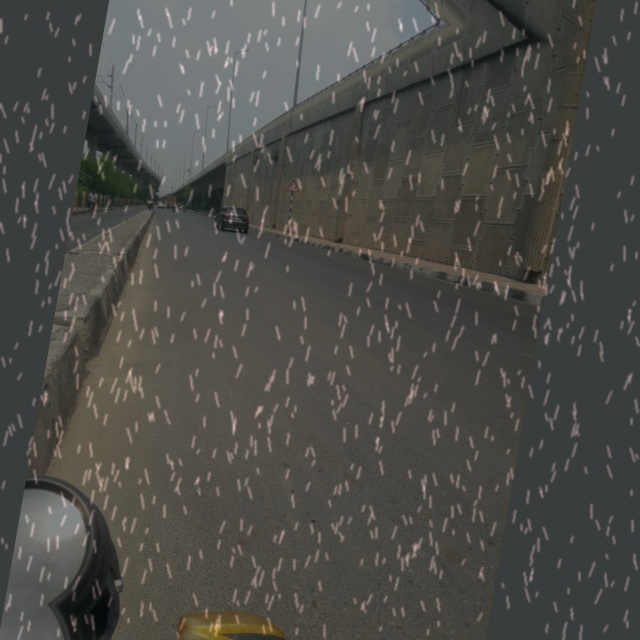Round_About: (276, 170, 309, 202)
